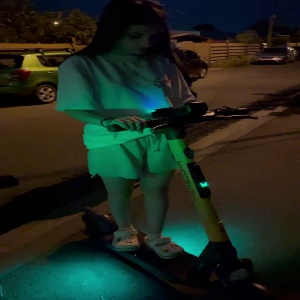human on a scooter: (43, 1, 276, 297)
